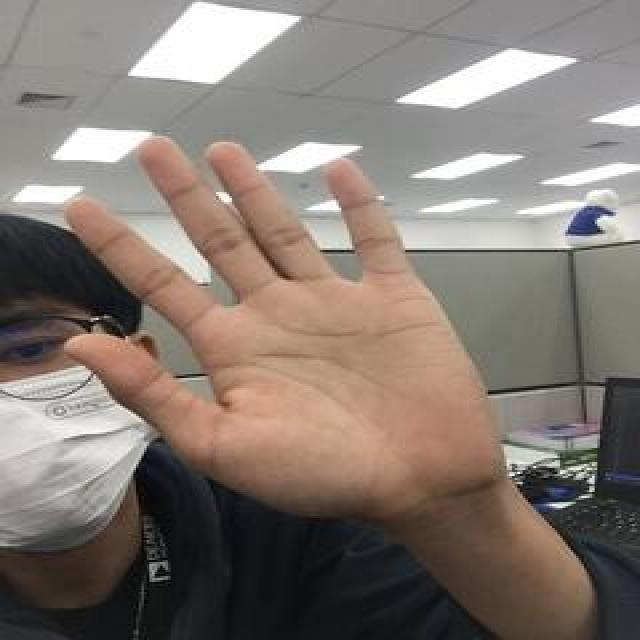hand: (64, 136, 512, 516)
